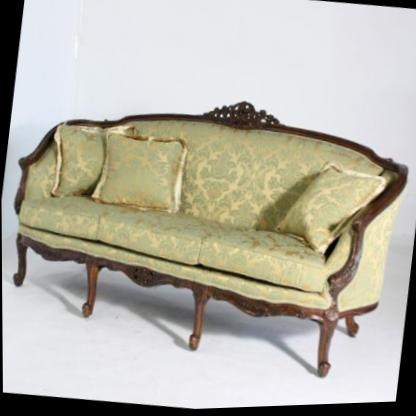Sofa: (0, 66, 415, 386)
